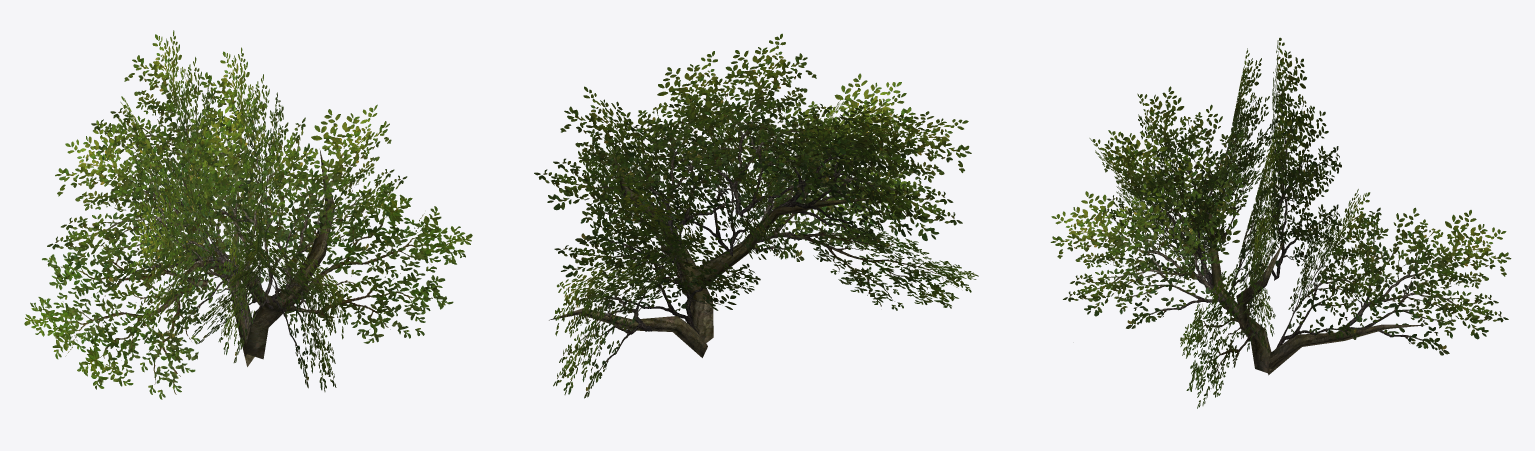
The model's file is zc_jiangxia_dashu02.FBX.
The picture shows the model from 3 angles, left to right: view 1: azimuth 30°, elevation 25°; view 2: azimuth 150°, elevation 25°; view 3: azimuth 270°, elevation 25°; orthographic projection. The views are drawn at different scales.
Parts seen in each view (by area): view 1: zc_jiangxia_dashu02; view 2: zc_jiangxia_dashu02; view 3: zc_jiangxia_dashu02.
Boxes of the visible parts, left/top/right/bottom form: zc_jiangxia_dashu02: left=24, top=30, right=472, bottom=399; zc_jiangxia_dashu02: left=534, top=33, right=978, bottom=398; zc_jiangxia_dashu02: left=1050, top=37, right=1511, bottom=408.
Size of the model in its own units: 5.95 by 4.65 by 6.32.
